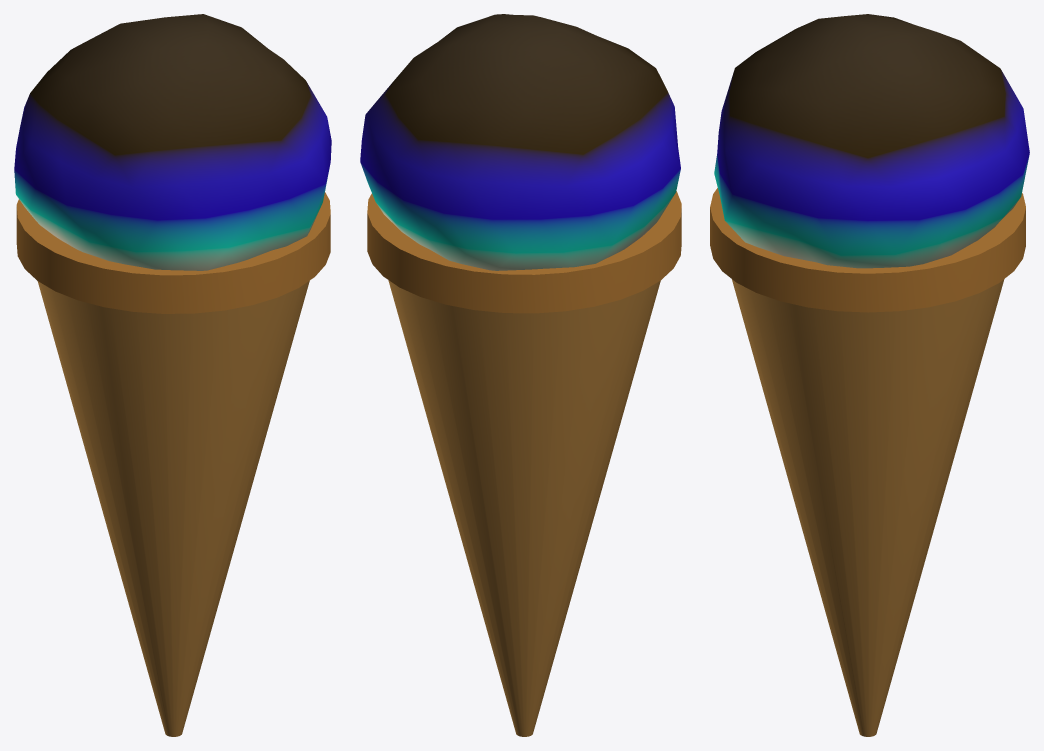
The picture shows the model from 3 angles, left to right: view 1: azimuth 30°, elevation 25°; view 2: azimuth 150°, elevation 25°; view 3: azimuth 270°, elevation 25°; orthographic projection.
Parts seen in each view (by area): view 1: anim-cone@c; view 2: anim-cone@c; view 3: anim-cone@c.
Boxes of the visible parts, box(x1,y1,x2,y2) form: anim-cone@c: box(14, 14, 331, 736); anim-cone@c: box(360, 14, 681, 736); anim-cone@c: box(710, 14, 1029, 736).
Bounding box in the file's own units: 0.1504 × 0.3648 × 0.1498.
